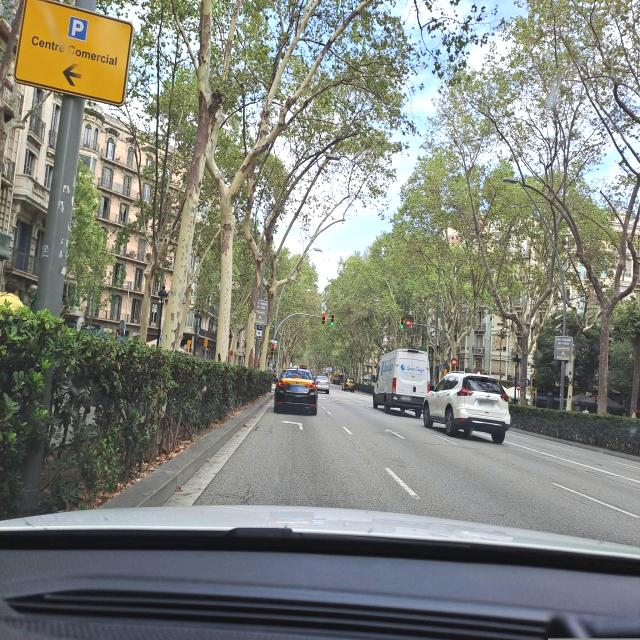car: (422, 370, 510, 443), (273, 367, 318, 415), (314, 375, 330, 394), (342, 377, 356, 394)
